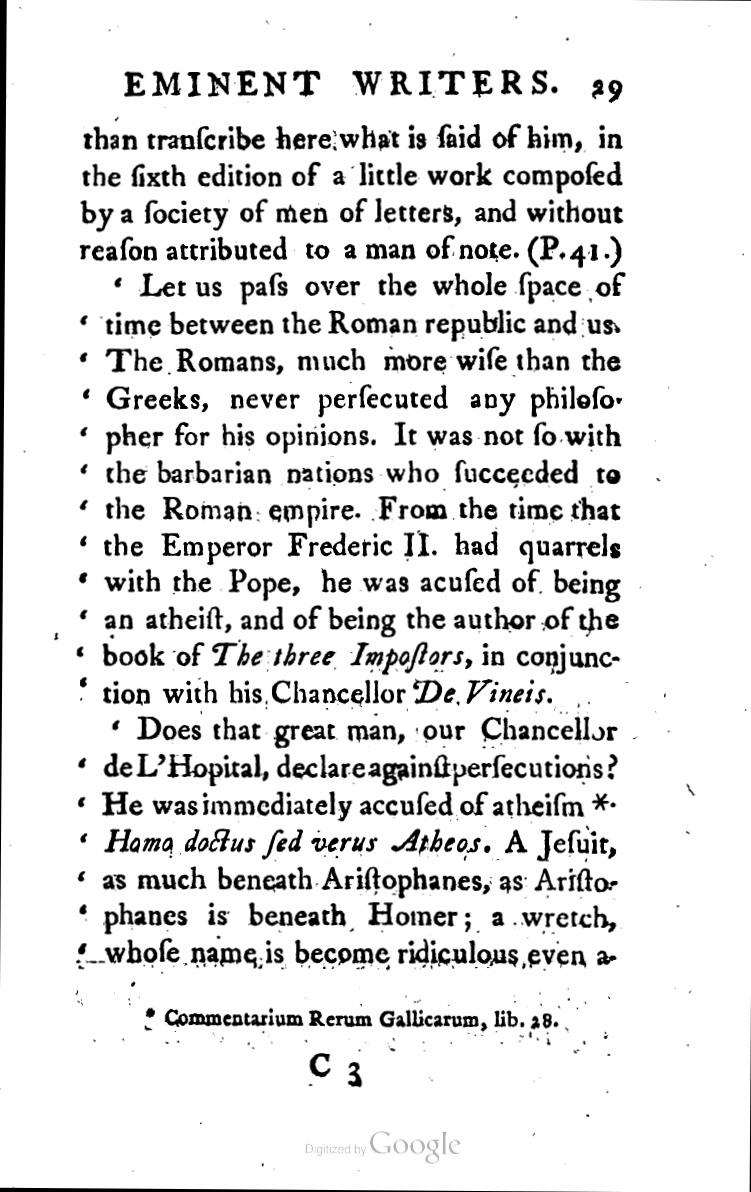bottom_p: (78, 125, 630, 267)
footnotes: (138, 1002, 562, 1035)
header: (117, 52, 560, 105)
page_num: (585, 72, 627, 103)
signature: (303, 1047, 365, 1093)
top_p: (77, 268, 633, 968)
